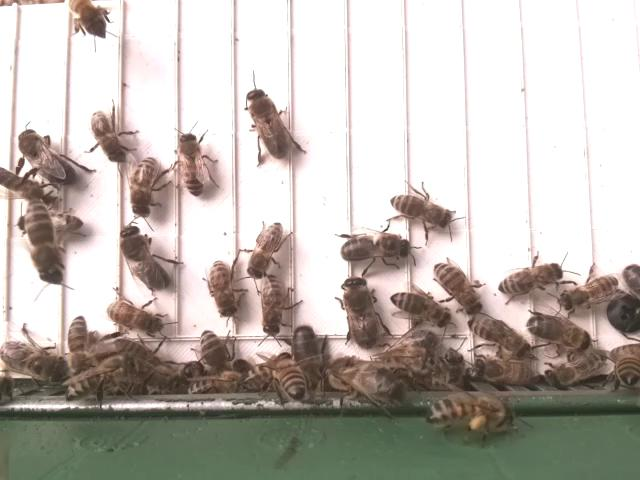Drone: (14, 127, 81, 191), (244, 87, 295, 163), (118, 223, 172, 292), (523, 308, 596, 359), (337, 274, 383, 349), (0, 339, 73, 385), (339, 229, 414, 268), (290, 320, 326, 385)
Worker: (467, 308, 537, 364), (168, 123, 219, 199), (78, 96, 131, 166), (119, 150, 164, 230), (430, 257, 487, 317), (24, 200, 63, 284), (497, 259, 568, 300), (388, 192, 460, 232), (556, 273, 623, 315), (245, 216, 285, 283), (388, 290, 455, 330), (104, 298, 167, 340), (267, 353, 316, 407), (197, 326, 233, 390), (205, 258, 241, 321), (255, 271, 287, 340)
